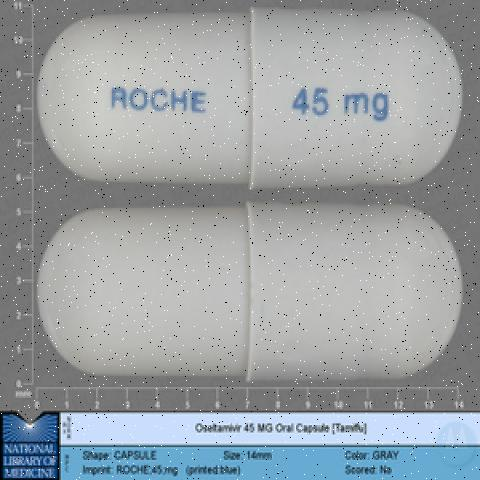Pill: (33, 194, 469, 388), (34, 5, 463, 192)
